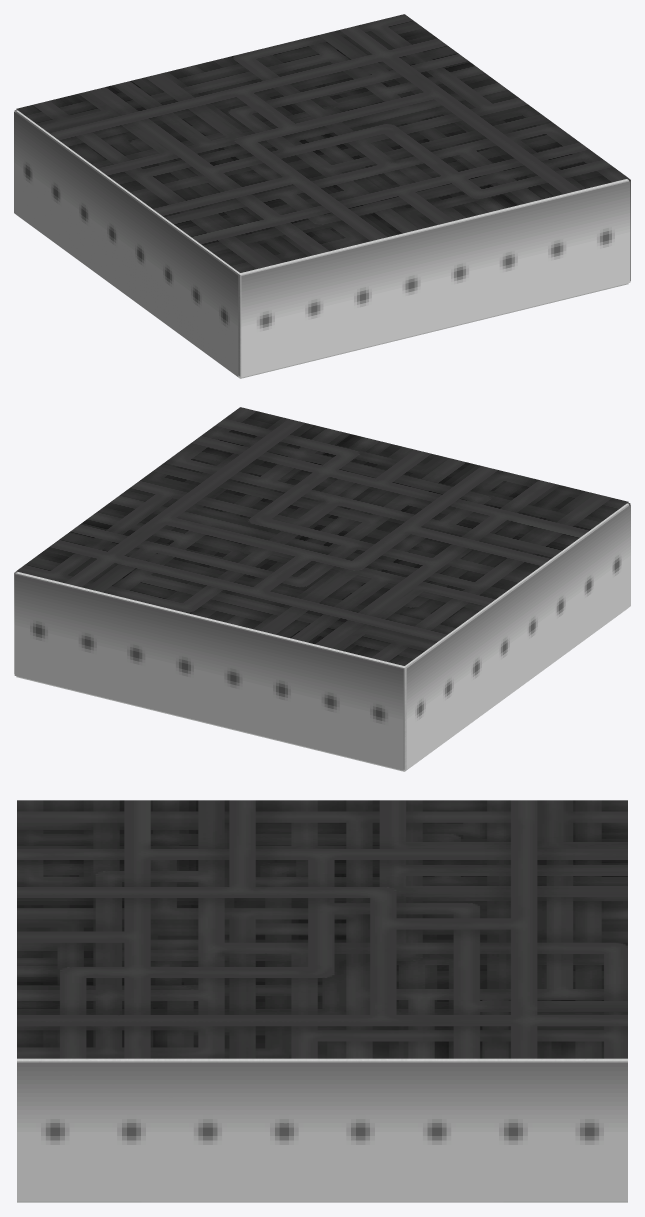
File: coupler.obj
3 renders of one model, top to bottom at view 1: azimuth 30°, elevation 25°; view 2: azimuth 150°, elevation 25°; view 3: azimuth 270°, elevation 25°, orthographic. The views are drawn at different scales.
Parts seen in each view (by area): view 1: Coupler7, Coupler4, Coupler3, Coupler1, Coupler2; view 2: Coupler7, Coupler6, Coupler3, Coupler1, Coupler2; view 3: Coupler7, Coupler8, Coupler1, Coupler2.
Part boxes in pixels (x1,y1,x2,y2): Coupler7: [16, 14, 628, 272]; Coupler4: [241, 181, 630, 377]; Coupler3: [14, 111, 238, 376]; Coupler1: [16, 110, 628, 376]; Coupler2: [18, 216, 628, 378]; Coupler7: [16, 407, 628, 665]; Coupler6: [14, 574, 403, 770]; Coupler3: [406, 504, 630, 769]; Coupler1: [16, 503, 628, 769]; Coupler2: [16, 609, 626, 771]; Coupler7: [17, 800, 627, 1058]; Coupler8: [17, 1062, 627, 1200]; Coupler1: [17, 1058, 627, 1062]; Coupler2: [17, 1201, 627, 1202].
Size of the model in its own units: 4.04 by 1.04 by 4.04.
6 materials, 6 textured.
